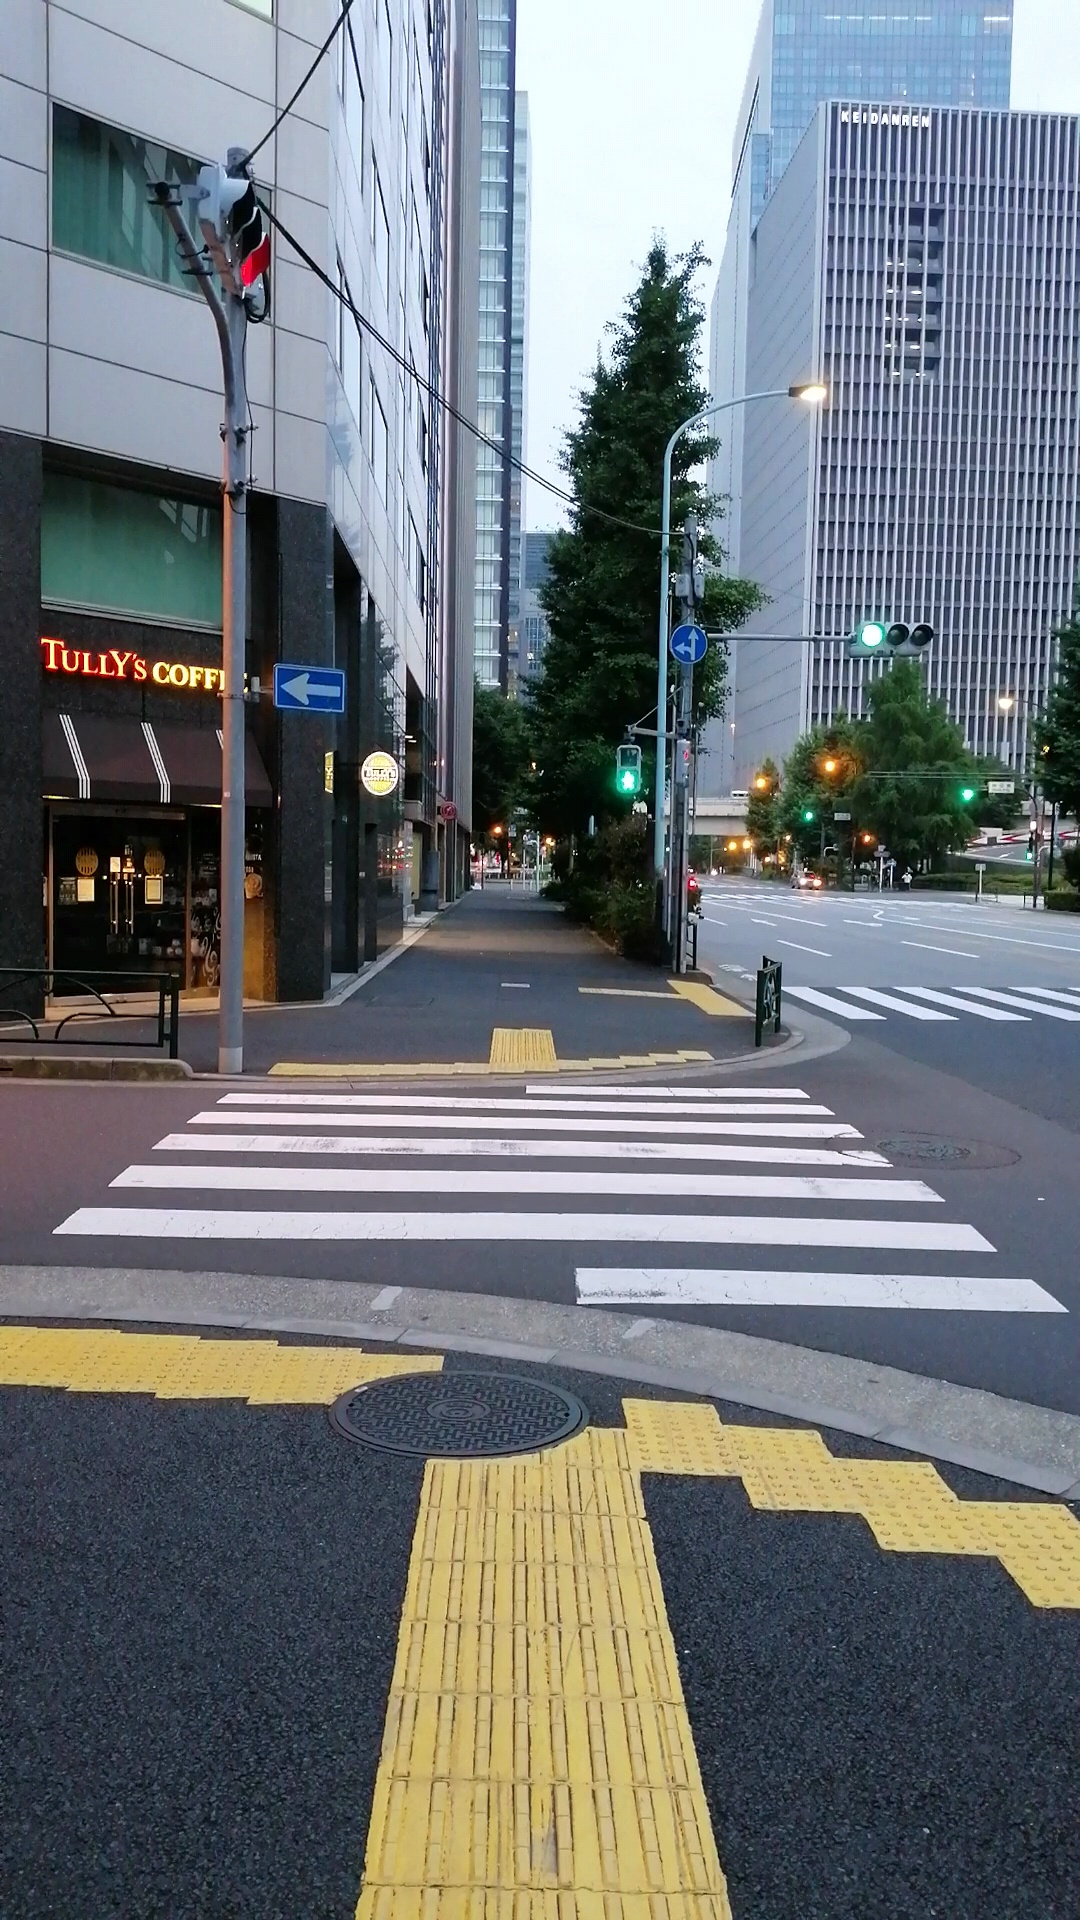green: (612, 741, 642, 794)
